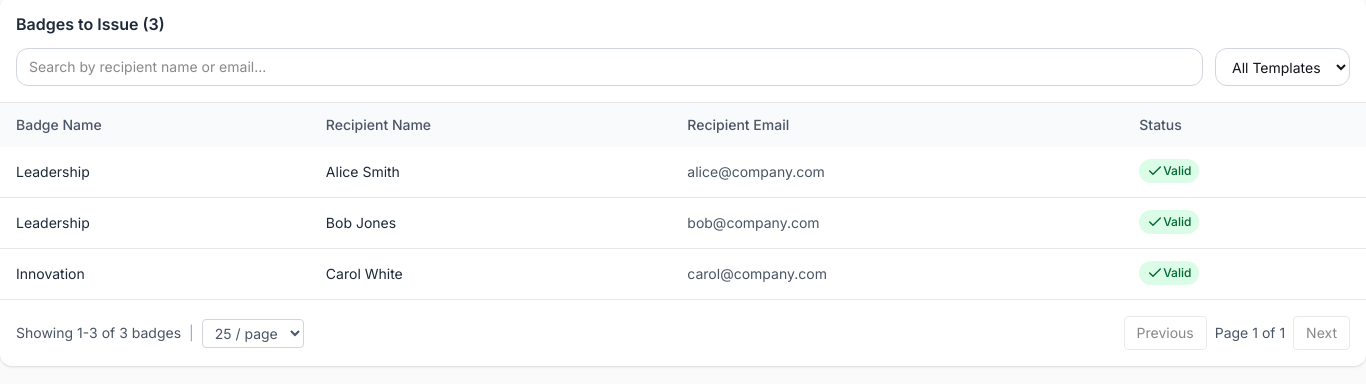
Test: BulkPreviewTable › should filter by recipient name via search
Type "alice" into the field named "Search recipients" at coordinates (610, 67), box [16,48,1203,86]
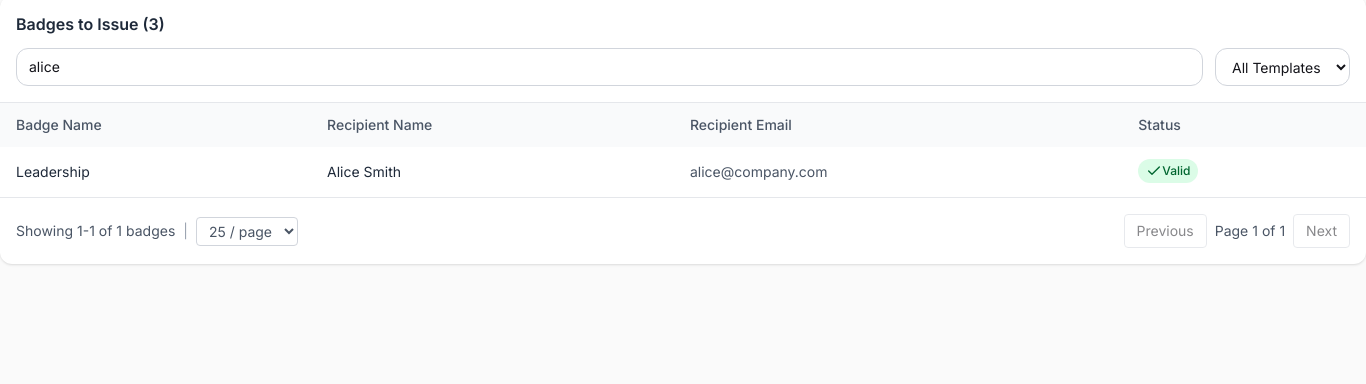
Expected: the text "Alice Smith" is shown, [311,147,674,197]
Expected: the text "Bob Jones" is gone
Expected: the text "Carol White" is gone
